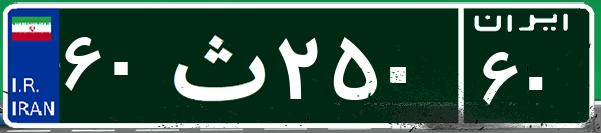0: (385, 28, 445, 110), (110, 28, 158, 105), (525, 38, 570, 115)
2: (273, 28, 330, 110)
5: (330, 28, 385, 110)
6: (57, 26, 110, 107), (475, 38, 525, 113)
ث: (158, 15, 273, 115)
